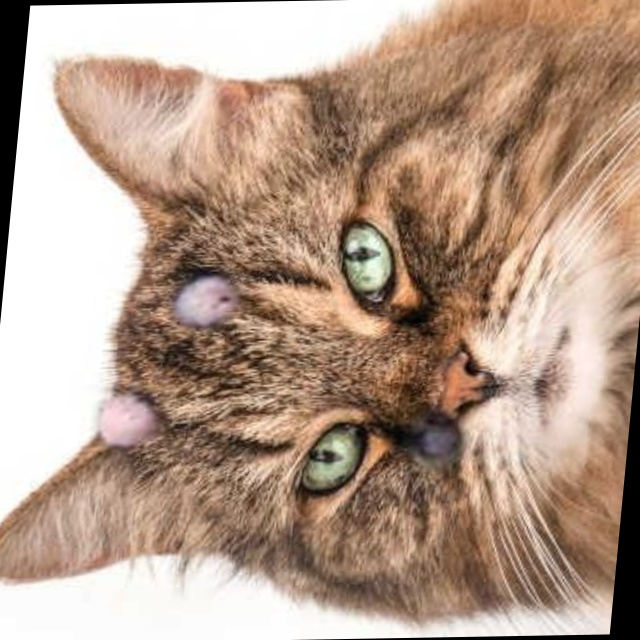lump_and_bump: (92, 393, 168, 446), (172, 280, 245, 322), (417, 416, 461, 455)
